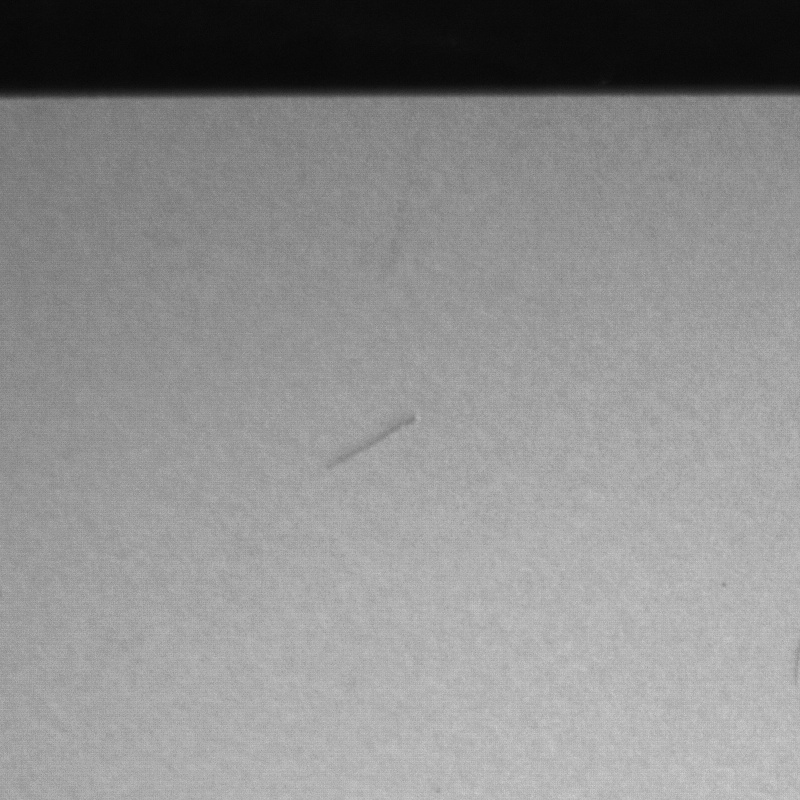defect: (319, 415, 427, 479)
